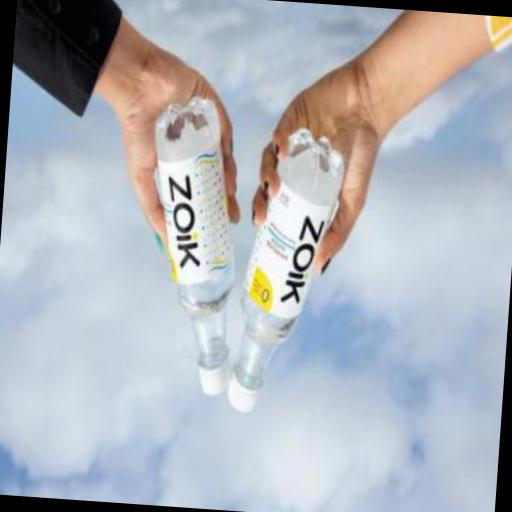Coca: (134, 89, 259, 402), (222, 122, 350, 424)
